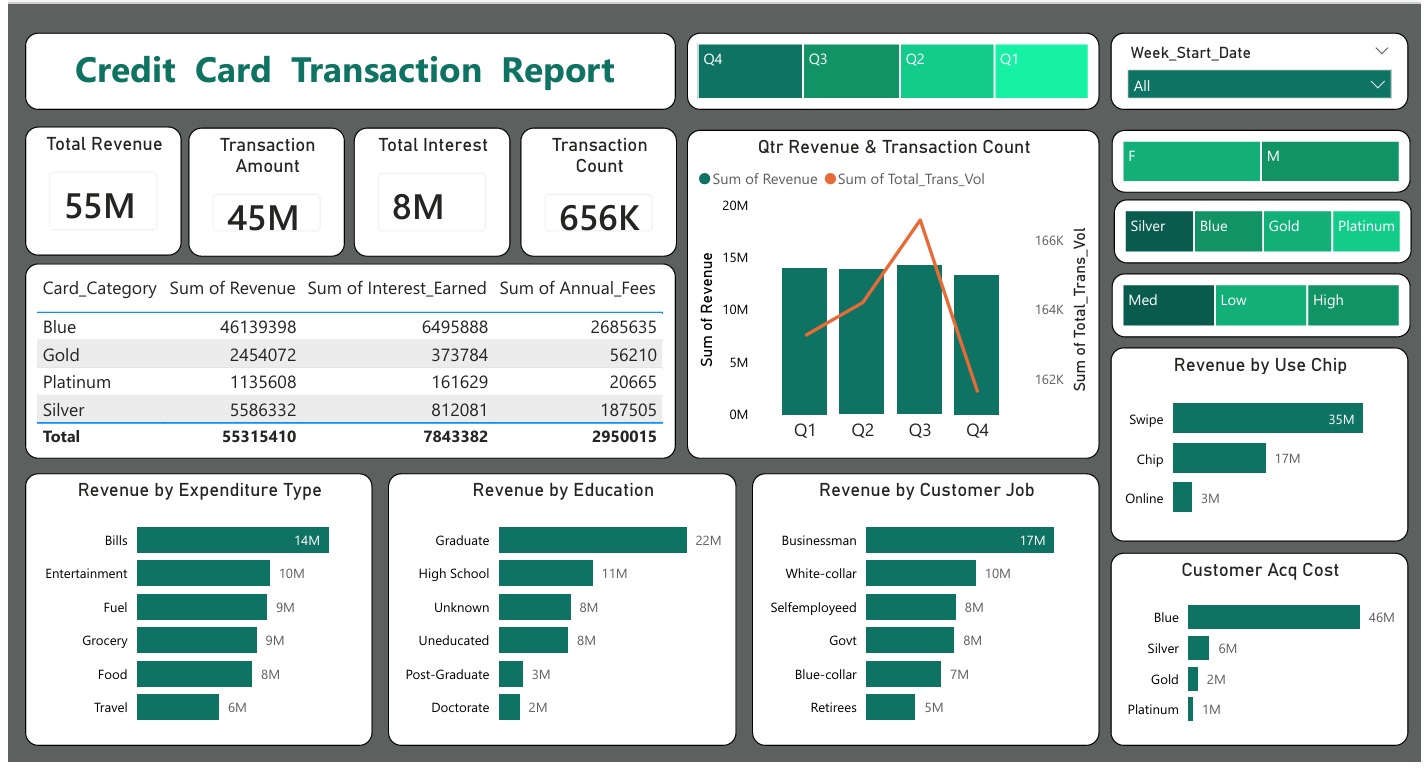

The page's visual inventory and layout, read from the dashboard file:
{"tool":"powerbi","page":{"name":"CC Transaction ","canvas":[1280,720],"ordinal":1},"visuals":[{"type":"textbox","box":[15.1,59,590.1,70],"z":0},{"type":"lineStackedColumnComboChart","title":"Qtr Revenue & Transaction Count","fields":{"Category":["credit_card (1).Qtr"],"Y":["Sum(credit_card (1).Revenue)"],"Y2":["Sum(credit_card (1).Total_Trans_Vol)"]},"box":[614.8,146.8,374.6,297.8],"z":1000},{"type":"barChart","title":"Revenue by Expenditure Type","fields":{"Category":["credit_card (1).Exp Type"],"Y":["Sum(credit_card (1).Revenue)"]},"box":[15.1,458.3,315,247],"z":2000},{"type":"barChart","title":"Revenue by Education","fields":{"Y":["Sum(credit_card (1).Revenue)"],"Category":["customer.Education_Level"]},"box":[344.4,458.3,315.6,247],"z":3000},{"type":"barChart","title":"Revenue by Customer Job","fields":{"Y":["Sum(credit_card (1).Revenue)"],"Category":["customer.Customer_Job"]},"box":[673.8,458.3,315.6,247],"z":4000},{"type":"barChart","title":"Customer Acq Cost","fields":{"Y":["Sum(credit_card (1).Revenue)"],"Category":["credit_card (1).Card_Category"]},"box":[999,529.7,270.3,175.6],"z":5000},{"type":"barChart","title":"Revenue by Use Chip","fields":{"Y":["Sum(credit_card (1).Revenue)"],"Category":["credit_card (1).Use Chip"]},"box":[999,344.4,270.3,175.6],"z":6000},{"type":"tableEx","fields":{"Values":["credit_card (1).Card_Category","Sum(credit_card (1).Revenue)","Sum(credit_card (1).Interest_Earned)","Sum(credit_card (1).Annual_Fees)"]},"box":[15.1,267.6,590.1,177],"z":7000},{"type":"cardVisual","title":"Total Revenue","fields":{"Data":["Sum(credit_card (1).Revenue)"]},"box":[15.1,144.1,142,117],"z":8000},{"type":"cardVisual","title":"Transaction Amount","fields":{"Data":["Sum(credit_card (1).Total_Trans_Amt)"]},"box":[163.3,145.5,142,116.6],"z":9000},{"type":"cardVisual","title":"Total Interest","fields":{"Data":["Sum(credit_card (1).Interest_Earned)"]},"box":[312.9,145.5,142,116.6],"z":10000},{"type":"cardVisual","title":"Transaction Count","fields":{"Data":["Sum(credit_card (1).Total_Trans_Vol)"]},"box":[463.8,145.5,142,116.6],"z":11000},{"type":"slicer","fields":{"Values":["credit_card (1).Week_Start_Date"]},"box":[999,59,270.3,70],"z":12000},{"type":"treemap","fields":{"Group":["credit_card (1).Qtr"],"Values":["Avg(credit_card (1).Client_Num)"]},"box":[614.8,59,374.6,70],"z":13000},{"type":"treemap","fields":{"Values":["Avg(credit_card (1).Client_Num)"],"Group":["customer.Gender"]},"box":[1000.3,146.8,270.3,57],"z":14000},{"type":"treemap","fields":{"Values":["Avg(credit_card (1).Client_Num)"],"Group":["credit_card (1).Card_Category"]},"box":[1001.7,209.9,270.3,57.6],"z":15000},{"type":"treemap","fields":{"Values":["Avg(credit_card (1).Client_Num)"],"Group":["customer.IncomeGroup"]},"box":[1000.3,277.2,270.3,57.6],"z":16000}]}

Visuals, with their boxes in screenshot pixels (x1, y1, x2, y2):
textbox: [x1=28, y1=31, x2=673, y2=108]
"Qtr Revenue & Transaction Count" lineStackedColumnComboChart: [x1=683, y1=127, x2=1093, y2=453]
"Revenue by Expenditure Type" barChart: [x1=28, y1=468, x2=372, y2=738]
"Revenue by Education" barChart: [x1=388, y1=468, x2=733, y2=738]
"Revenue by Customer Job" barChart: [x1=748, y1=468, x2=1093, y2=738]
"Customer Acq Cost" barChart: [x1=1103, y1=546, x2=1399, y2=738]
"Revenue by Use Chip" barChart: [x1=1103, y1=343, x2=1399, y2=535]
tableEx - credit_card (1).Card_Category x Sum(credit_card (1).Revenue): [x1=28, y1=259, x2=673, y2=453]
"Total Revenue" cardVisual: [x1=28, y1=124, x2=183, y2=252]
"Transaction Amount" cardVisual: [x1=190, y1=126, x2=345, y2=253]
"Total Interest" cardVisual: [x1=353, y1=126, x2=508, y2=253]
"Transaction Count" cardVisual: [x1=518, y1=126, x2=673, y2=253]
slicer - credit_card (1).Week_Start_Date: [x1=1103, y1=31, x2=1399, y2=108]
treemap - credit_card (1).Qtr x Avg(credit_card (1).Client_Num): [x1=683, y1=31, x2=1093, y2=108]
treemap - Avg(credit_card (1).Client_Num) x customer.Gender: [x1=1105, y1=127, x2=1400, y2=189]
treemap - Avg(credit_card (1).Client_Num) x credit_card (1).Card_Category: [x1=1106, y1=196, x2=1402, y2=259]
treemap - Avg(credit_card (1).Client_Num) x customer.IncomeGroup: [x1=1105, y1=270, x2=1400, y2=333]
